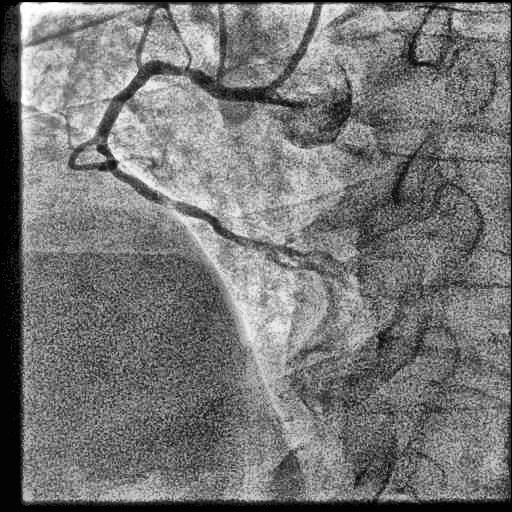rca: (96, 60, 268, 251)
